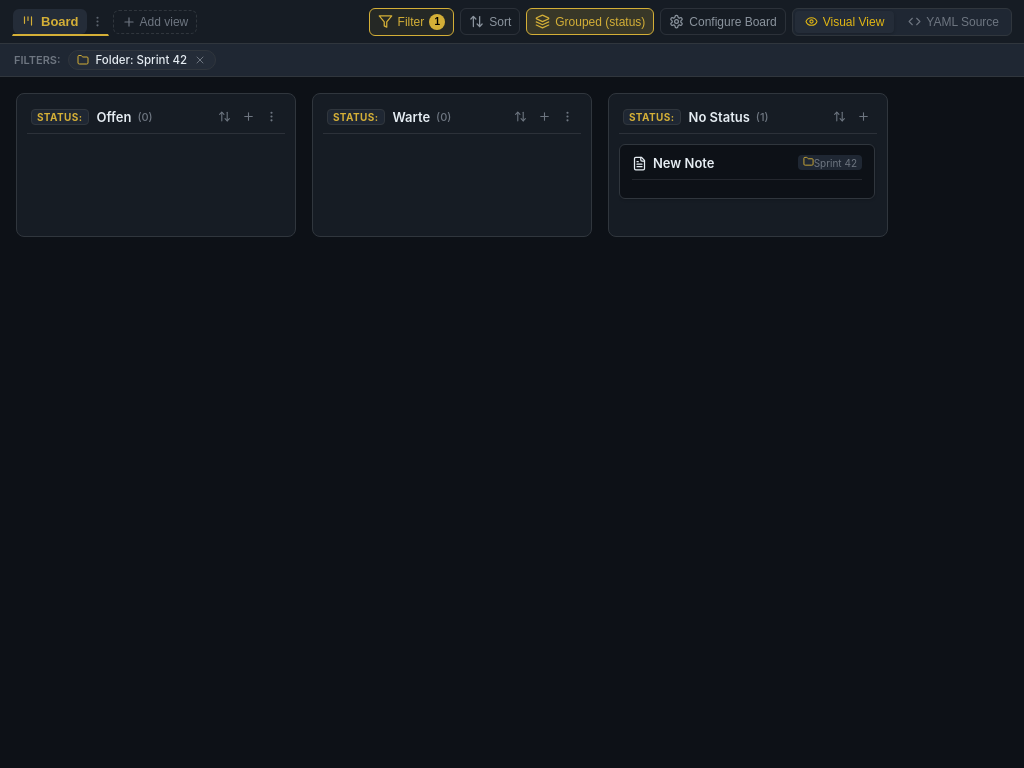
Test case: Base Kanban Board View (`type: board`) › creates new card in filtered folder with collision-free name and opens note
Later steps or results of the test are not shown.
Check: the button with class "base-board-add-card-btn" in the row of "Offen" is shown, box [239,107,258,126]
Click the button with class "base-board-add-card-btn" in the row of "Warte": (544, 116) [535,107,554,126]
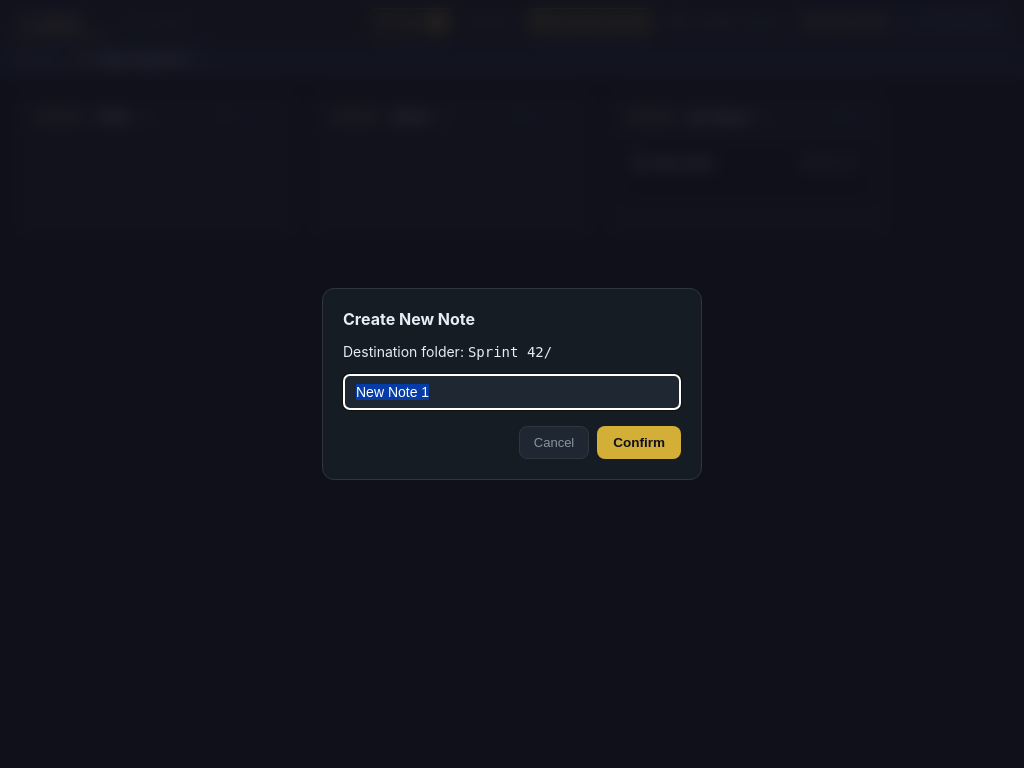
Check: the element with class "modal-box" is shown, box [322,288,702,480]
Check: the field with class "modal-input" holds "New Note 1", box [343,374,681,410]
